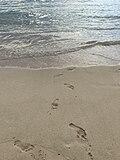human_footprint: (2, 137, 66, 159), (13, 138, 77, 159), (14, 139, 70, 159), (14, 139, 67, 159), (69, 123, 93, 159), (69, 123, 92, 159), (1, 137, 35, 159), (14, 140, 45, 159), (64, 140, 93, 159), (30, 144, 65, 159), (36, 149, 65, 159), (69, 123, 86, 139), (14, 140, 34, 151), (30, 149, 46, 159), (92, 82, 119, 87), (86, 142, 93, 159), (0, 137, 14, 143), (51, 98, 58, 109), (51, 98, 58, 108), (64, 83, 74, 89), (64, 83, 73, 89), (30, 153, 38, 159), (54, 73, 62, 77), (88, 151, 92, 159), (113, 66, 119, 71), (65, 144, 70, 149), (67, 67, 75, 70), (115, 67, 119, 72), (117, 68, 120, 73), (47, 111, 51, 114), (117, 68, 119, 73), (118, 68, 120, 71), (75, 96, 77, 98)
